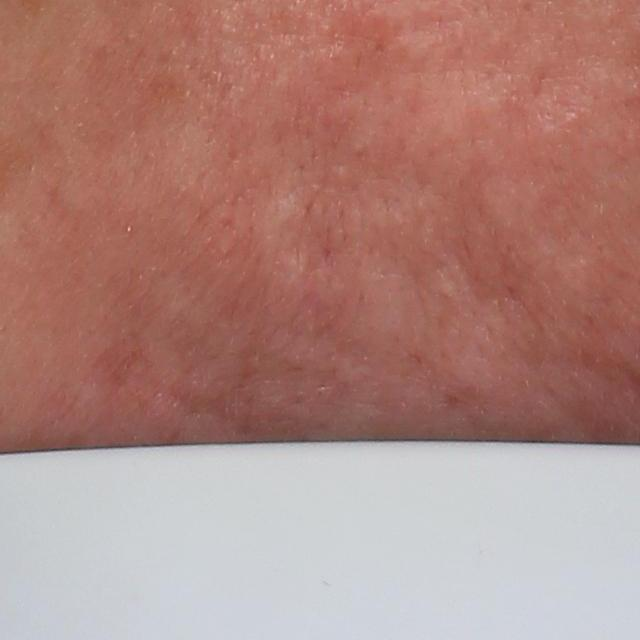hypertrophic_scar: (240, 179, 311, 286)
